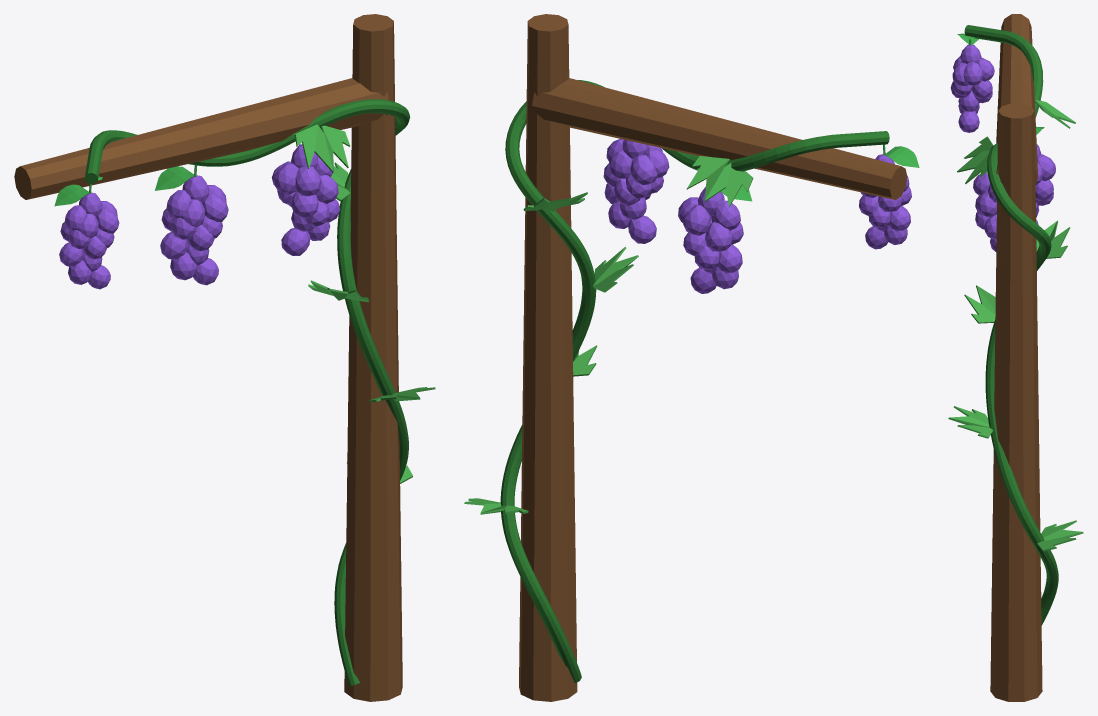
The model's file is GRAPE.fbx.
3 renders of one model, left to right at view 1: azimuth 30°, elevation 25°; view 2: azimuth 150°, elevation 25°; view 3: azimuth 270°, elevation 25°, orthographic. The views are drawn at different scales.
Parts seen in each view (by area): view 1: Cylinder.012; view 2: Cylinder.012; view 3: Cylinder.012.
Boxes of the visible parts, x1,y1,x2,y2 form: Cylinder.012: [14, 14, 435, 701]; Cylinder.012: [464, 14, 919, 701]; Cylinder.012: [948, 14, 1083, 701].
Bounding box in the file's own units: 744 × 1164 × 246.
